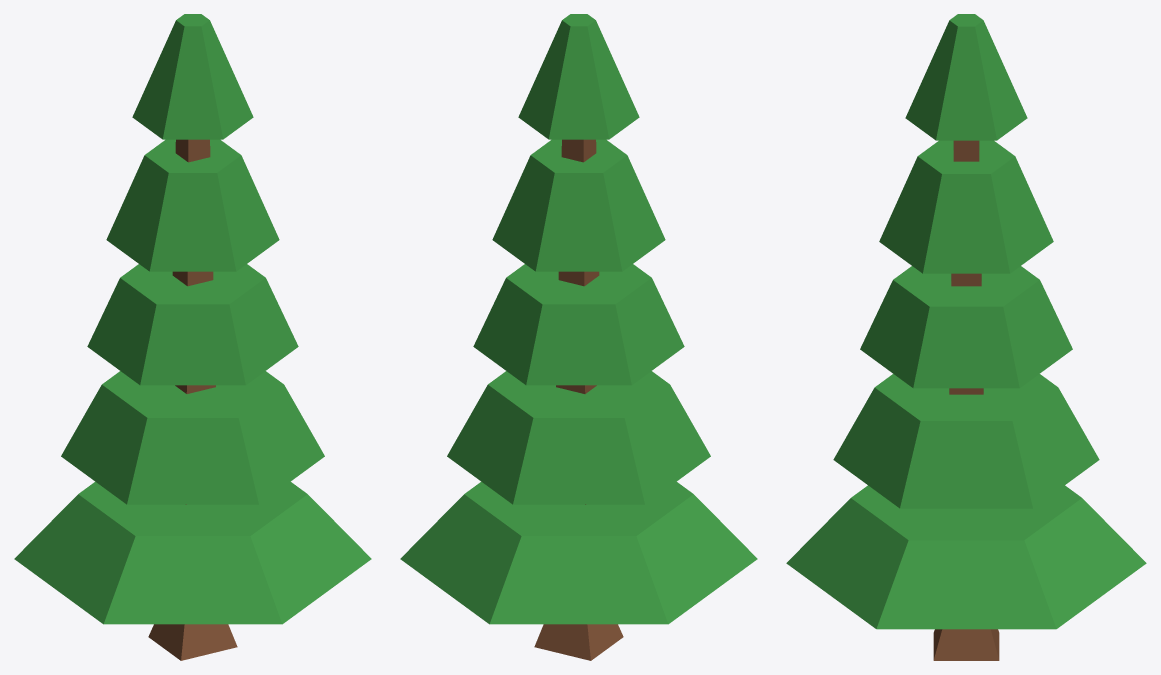
Rendered from tree_5.fbx.
The picture shows the model from 3 angles, left to right: view 1: azimuth 30°, elevation 25°; view 2: azimuth 150°, elevation 25°; view 3: azimuth 270°, elevation 25°; orthographic projection.
Visible parts, largest first — view 1: tree_5; view 2: tree_5; view 3: tree_5.
Part boxes in pixels (left/top/right/bottom): tree_5: left=14, top=14, right=371, bottom=660; tree_5: left=400, top=14, right=757, bottom=660; tree_5: left=786, top=14, right=1146, bottom=660.
Bounding box in the file's own units: 0.617 × 1.37 × 0.7125.
1 material, 1 textured.
